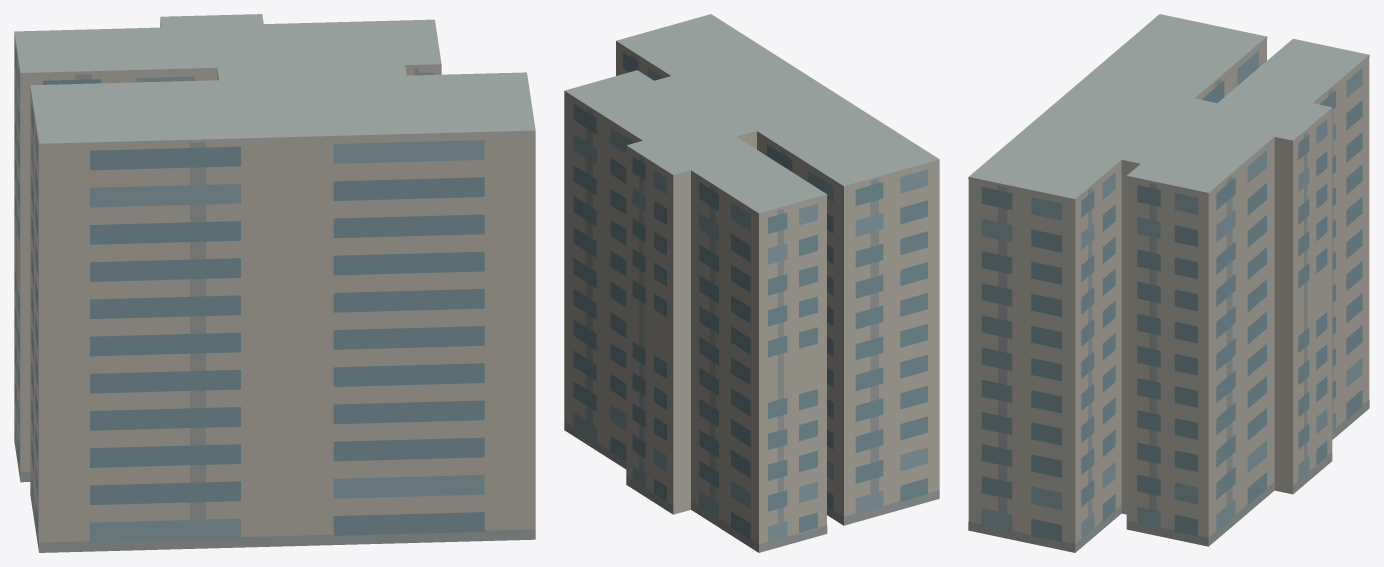
The model's file is residential-515c9d1d-dda1-44b7-a2e2-763dcba49fa3.glb.
3 renders of one model, left to right at view 1: azimuth 30°, elevation 25°; view 2: azimuth 150°, elevation 25°; view 3: azimuth 270°, elevation 25°, orthographic. The views are drawn at different scales.
Parts seen in each view (by area): view 1: residential-515c9d1d-dda1-44b7-a2e2-763dcba49fa3.tmp; view 2: residential-515c9d1d-dda1-44b7-a2e2-763dcba49fa3.tmp; view 3: residential-515c9d1d-dda1-44b7-a2e2-763dcba49fa3.tmp.
Boxes of the visible parts, <box> form: residential-515c9d1d-dda1-44b7-a2e2-763dcba49fa3.tmp: <box>14,14,535,552</box>; residential-515c9d1d-dda1-44b7-a2e2-763dcba49fa3.tmp: <box>564,14,939,552</box>; residential-515c9d1d-dda1-44b7-a2e2-763dcba49fa3.tmp: <box>968,14,1369,552</box>.
Bounding box in the file's own units: 37.68 × 33.55 × 34.48.
